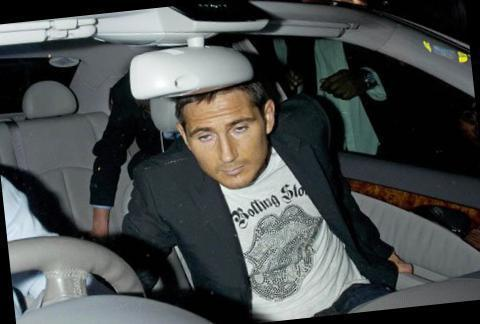Drunk: (193, 92, 266, 189)
